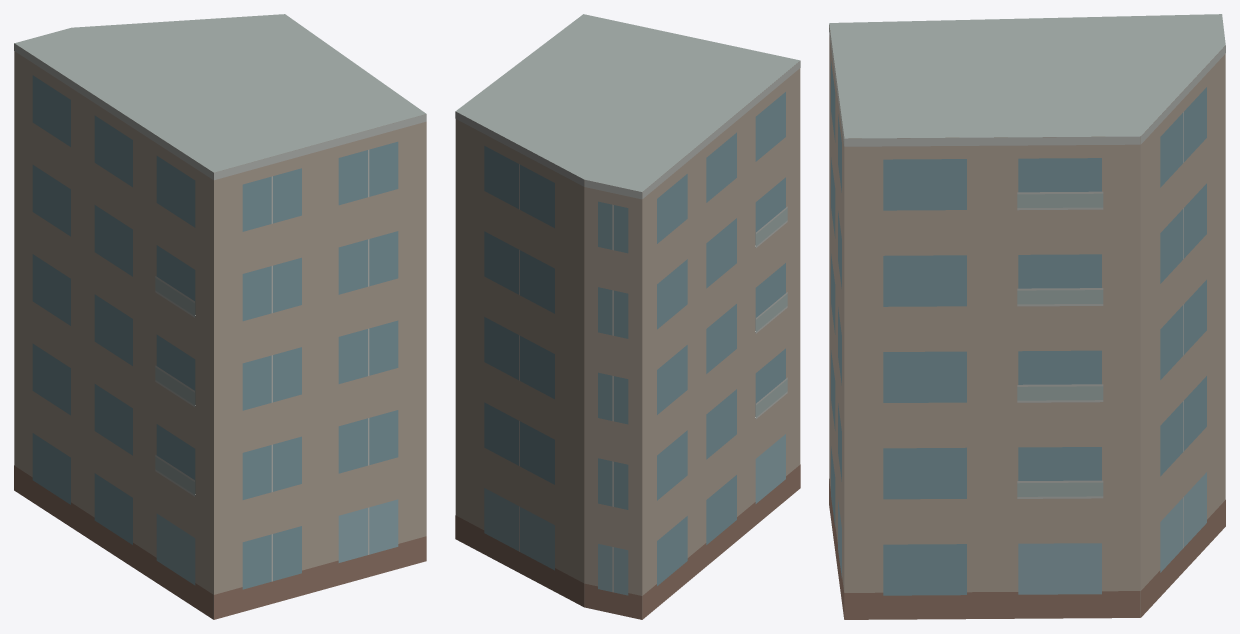
The model's file is survey-upis-32644434.glb.
3 views of the same model, side by side, from view 1: azimuth 30°, elevation 25°; view 2: azimuth 150°, elevation 25°; view 3: azimuth 270°, elevation 25° (orthographic). The views are drawn at different scales.
Parts seen in each view (by area): view 1: survey-upis-32644434.tmp; view 2: survey-upis-32644434.tmp; view 3: survey-upis-32644434.tmp.
Part boxes in pixels (x1,y1,x2,y2): survey-upis-32644434.tmp: [14, 14, 426, 619]; survey-upis-32644434.tmp: [455, 14, 800, 619]; survey-upis-32644434.tmp: [829, 14, 1225, 619].
Size of the model in its own units: 7.88 by 14.2 by 10.61.
